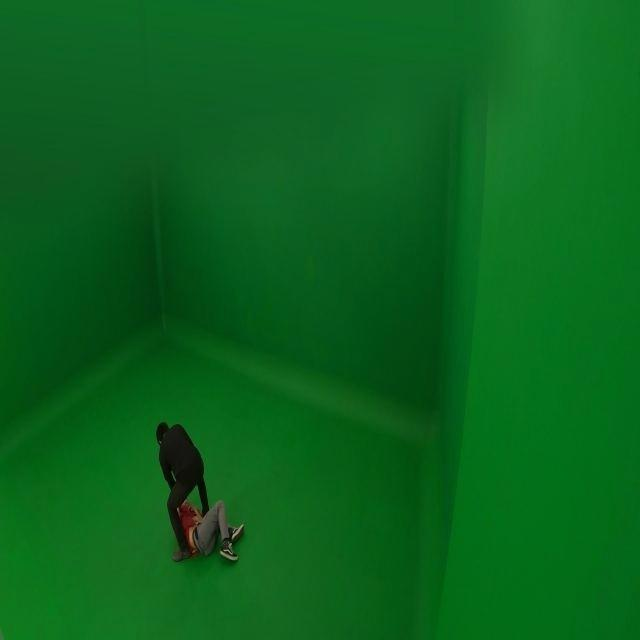fight: (156, 415, 250, 567)
